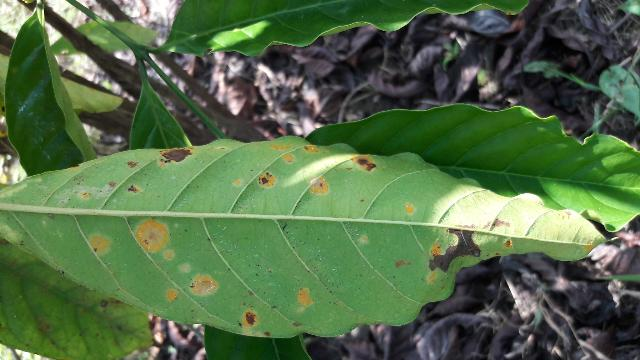red_spider_mite: (0, 143, 602, 332)
